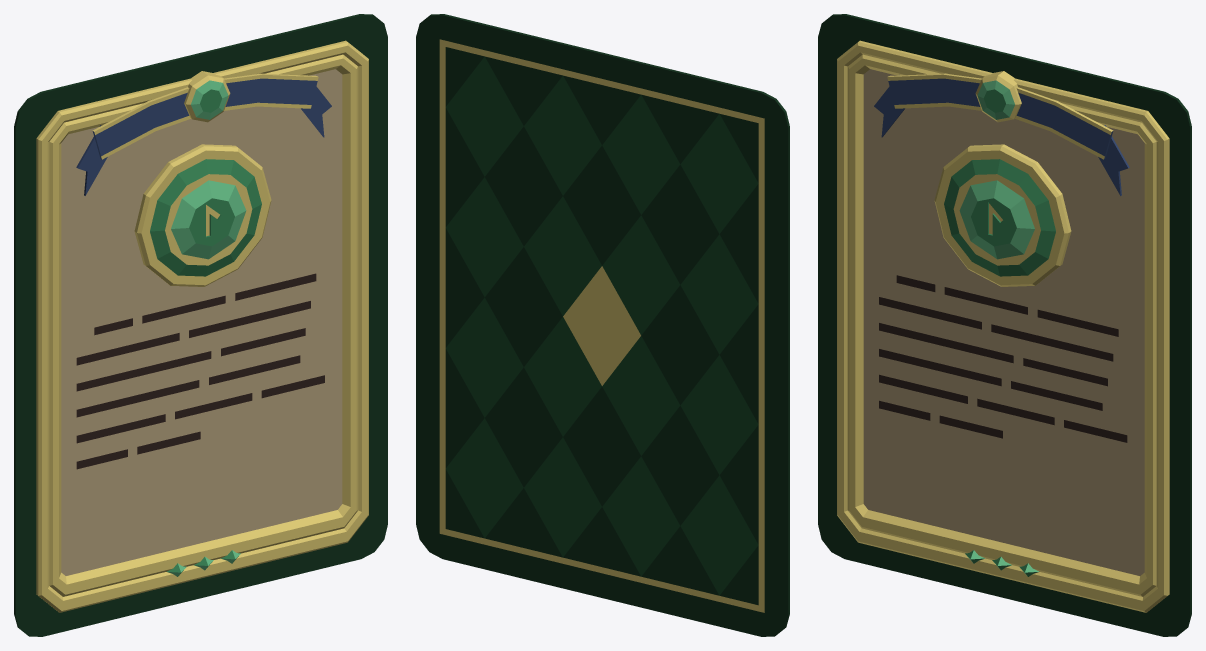
Rendered from spell-card-584e86.glb.
3 views of the same model, side by side, from view 1: azimuth 30°, elevation 25°; view 2: azimuth 150°, elevation 25°; view 3: azimuth 330°, elevation 25° (orthographic).
Visible parts, largest first — view 1: card, gold, gems; view 2: card, gold; view 3: card, gold, gems.
Part boxes in pixels (box(x1,y1,x2,y2)): card: box(14, 14, 387, 636); gold: box(36, 40, 368, 612); gems: box(150, 80, 261, 576); card: box(416, 14, 789, 636); gold: box(439, 39, 764, 612); card: box(818, 14, 1191, 636); gold: box(837, 40, 1169, 612); gems: box(944, 80, 1055, 576).
Bounding box in the file's own units: 0.063 × 0.088 × 0.0035.
